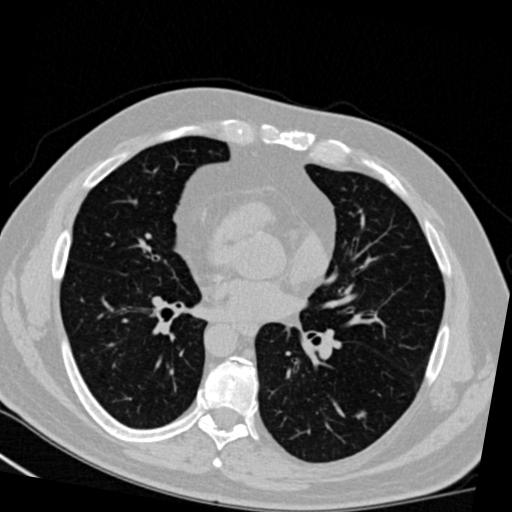nodule: (355, 407, 371, 423)
